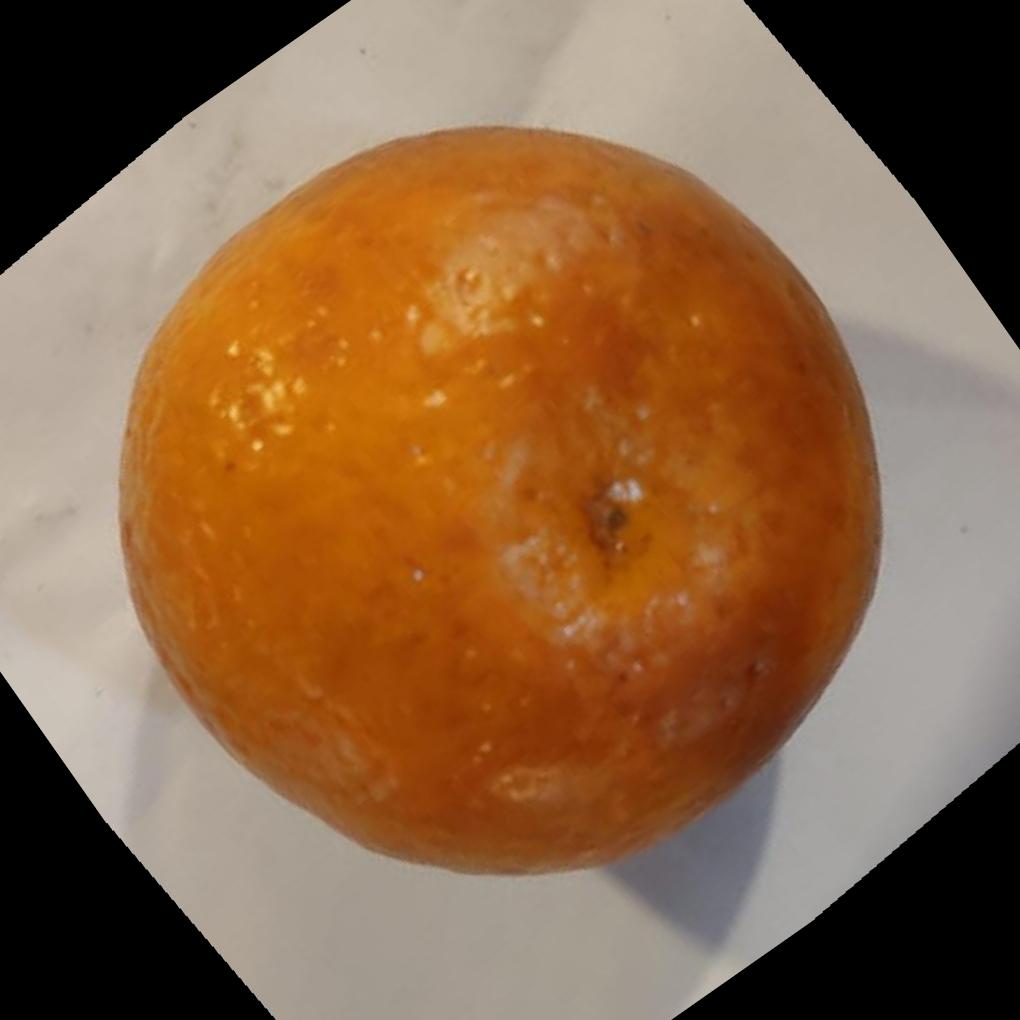FreshOrange: (118, 121, 887, 877)
